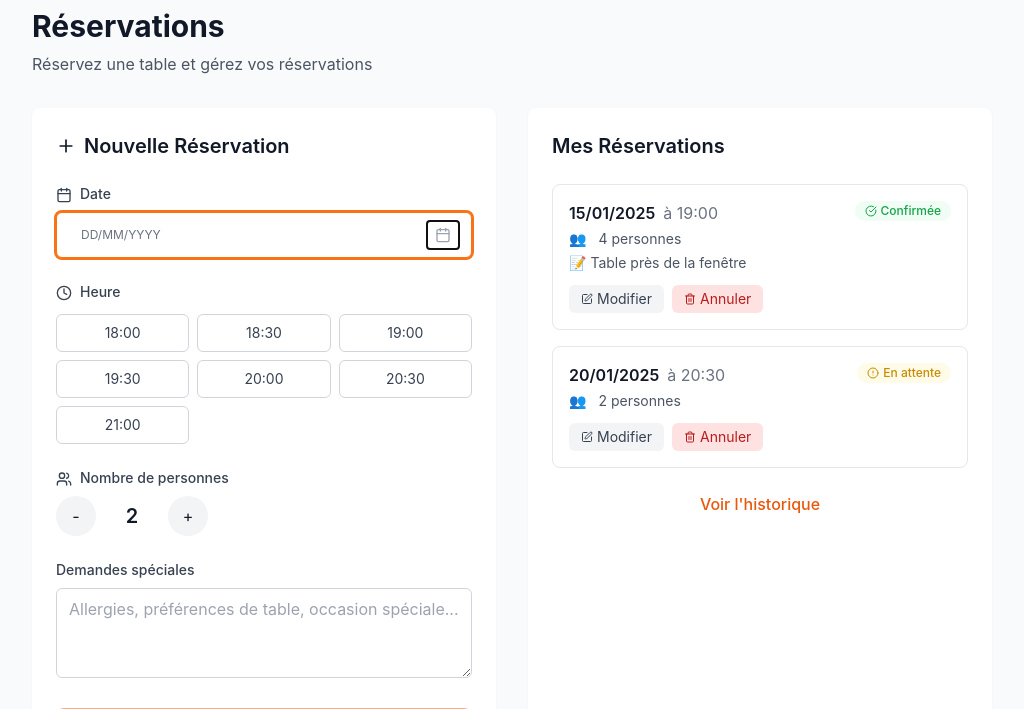
Reservations Component › should cancel edit mode and reset form when cancel button clicked
The width and height of the screenshot is (1024, 709).
// Enter edit mode
Click the button "Modifier" below "Table près de la fenêtre" at [616, 299], box [569,285,664,313]
(page scrolled)
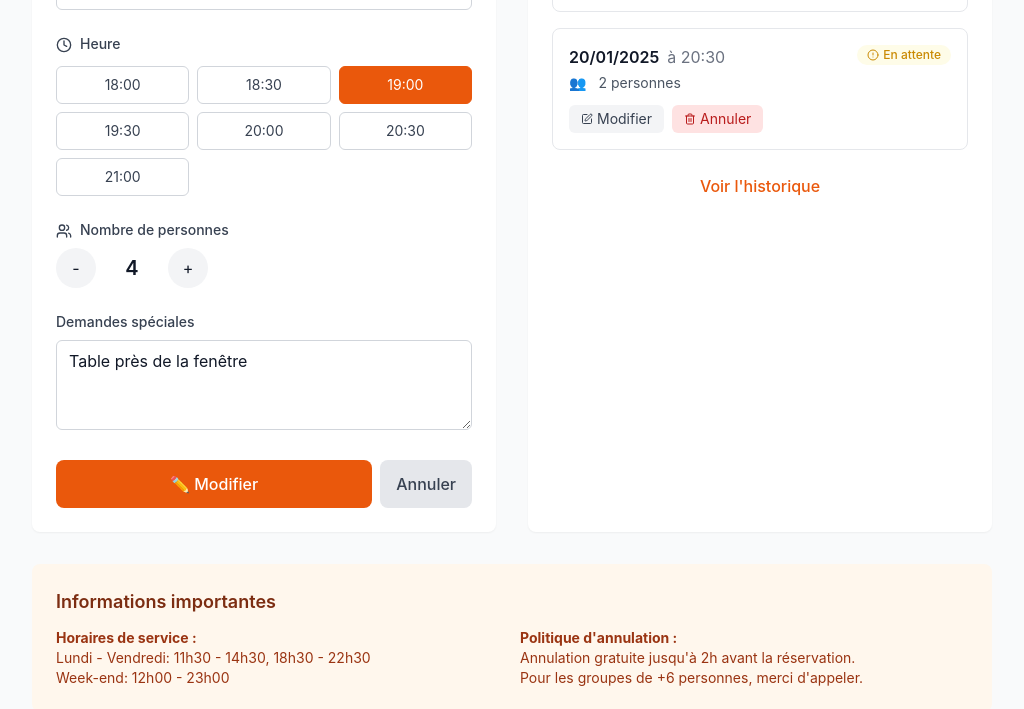
// Click cancel - select the form cancel button specifically by class
Click the button "Annuler" below "Demandes spéciales" at [426, 484], box [380,460,472,508]
(page scrolled)
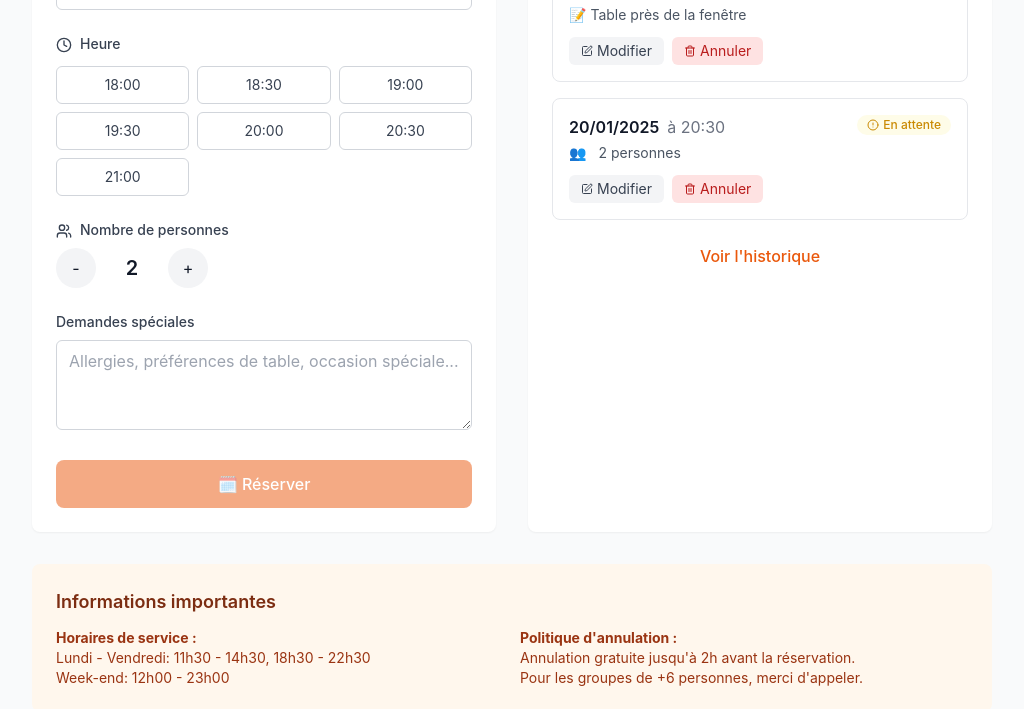
Now the button "🗓️ Réserver" is shown, box [56,460,472,508]
